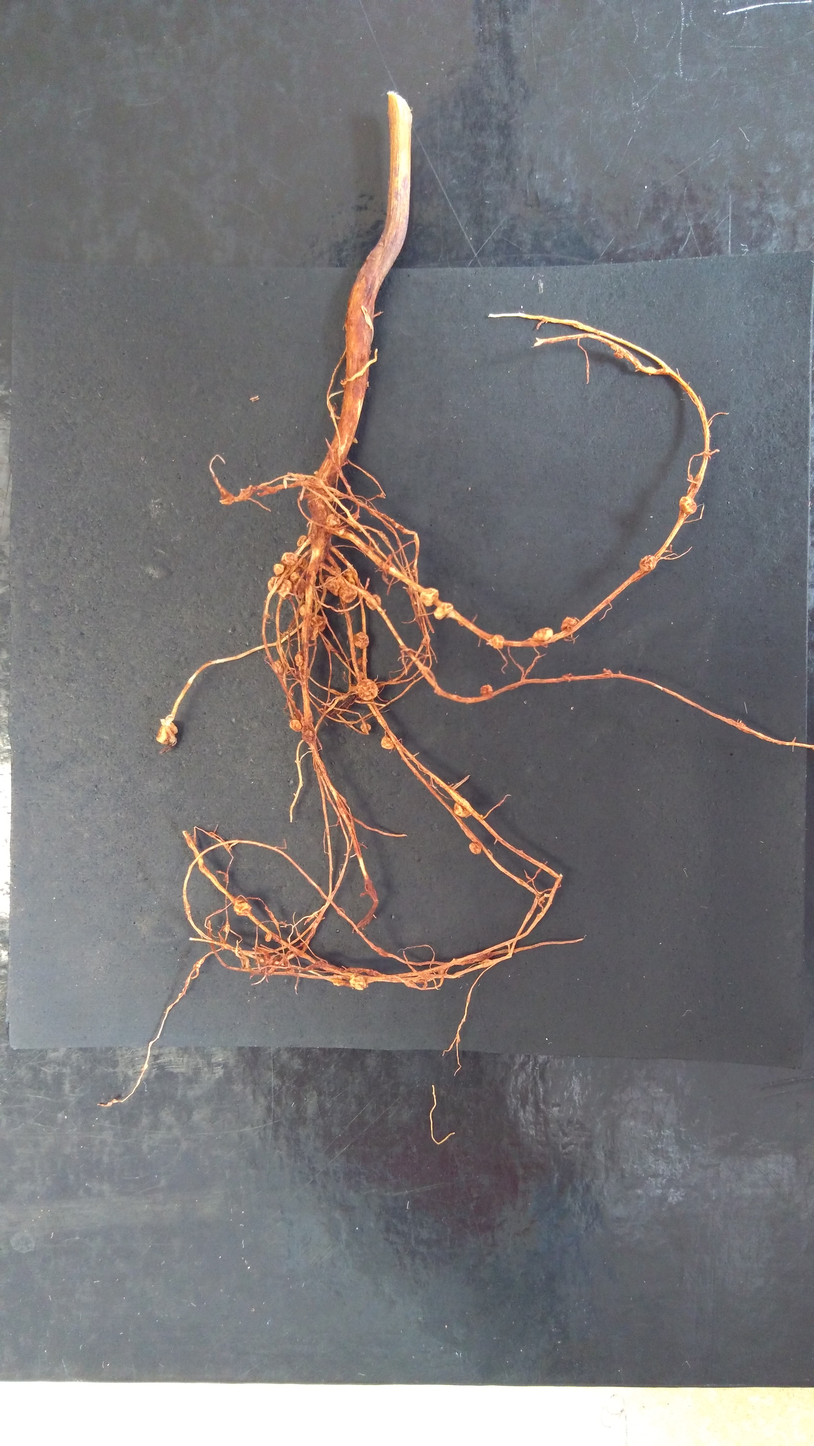nodule: (339, 569, 357, 603), (355, 678, 379, 701), (311, 614, 327, 640), (156, 725, 175, 745), (679, 495, 697, 516), (433, 602, 454, 620), (349, 972, 368, 991), (419, 588, 439, 606), (638, 555, 657, 573), (267, 576, 287, 593), (233, 899, 252, 916), (325, 575, 340, 596), (532, 627, 553, 642), (277, 578, 292, 598), (454, 799, 471, 816), (560, 617, 578, 632), (365, 595, 381, 611), (353, 632, 369, 648), (281, 552, 298, 566), (380, 735, 395, 750), (326, 514, 341, 528), (301, 729, 315, 744), (491, 634, 504, 650), (219, 491, 234, 504), (289, 720, 302, 732), (167, 721, 178, 735), (273, 563, 285, 575), (332, 973, 343, 986), (480, 684, 493, 695), (469, 842, 482, 853), (274, 660, 284, 674), (298, 558, 309, 570), (297, 535, 307, 547), (290, 572, 301, 582), (360, 723, 371, 733), (295, 654, 303, 667), (306, 723, 316, 733), (357, 657, 369, 665), (299, 604, 306, 617), (422, 635, 430, 646), (264, 932, 272, 942), (602, 667, 612, 675), (613, 352, 624, 359), (610, 343, 619, 351), (445, 611, 454, 619), (351, 436, 359, 445), (358, 671, 365, 679), (313, 470, 318, 476)
